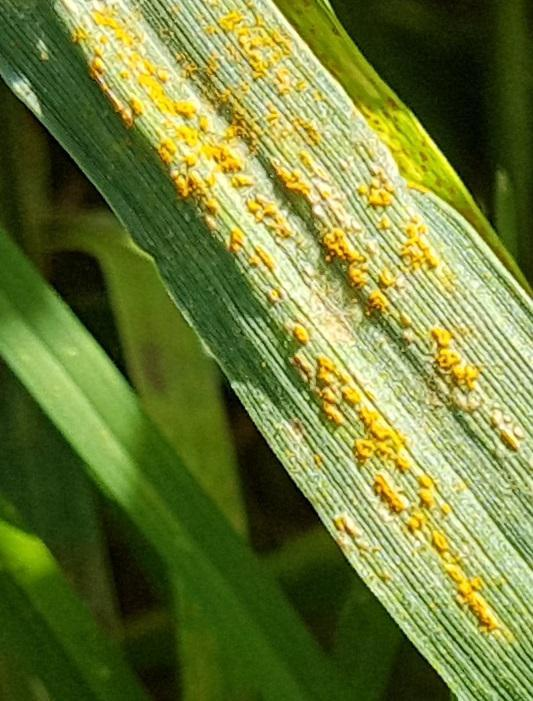Wheat: (230, 296, 524, 654), (48, 6, 314, 296), (306, 128, 516, 420)
